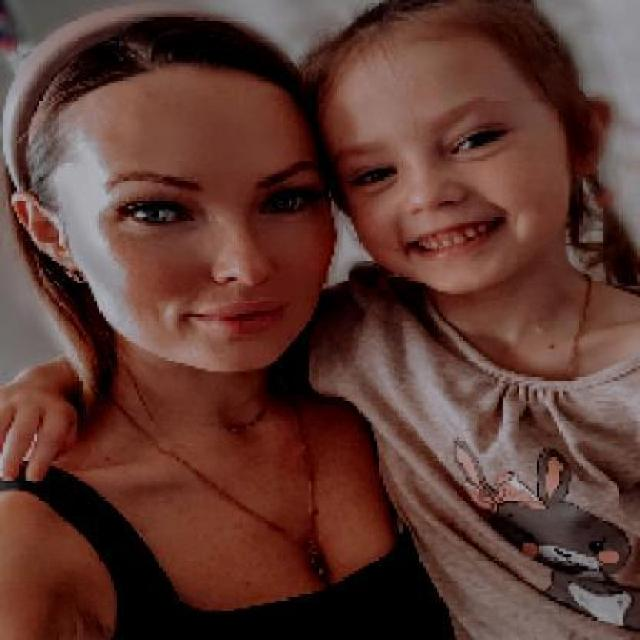child: (300, 0, 640, 637)
